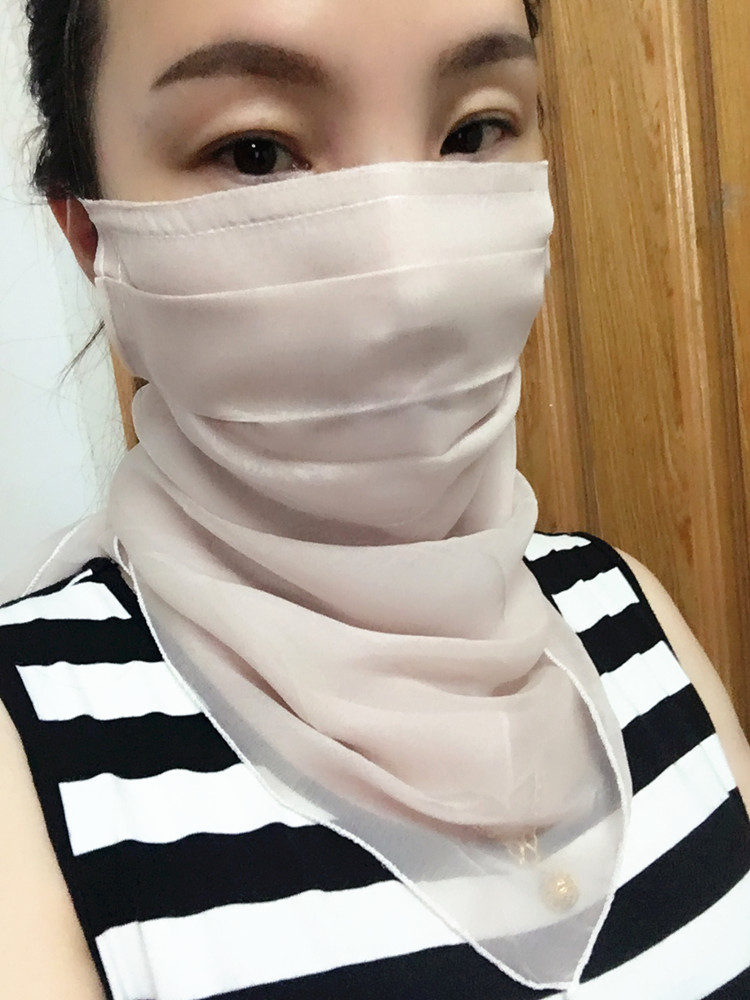face_mask: (106, 0, 569, 562)
